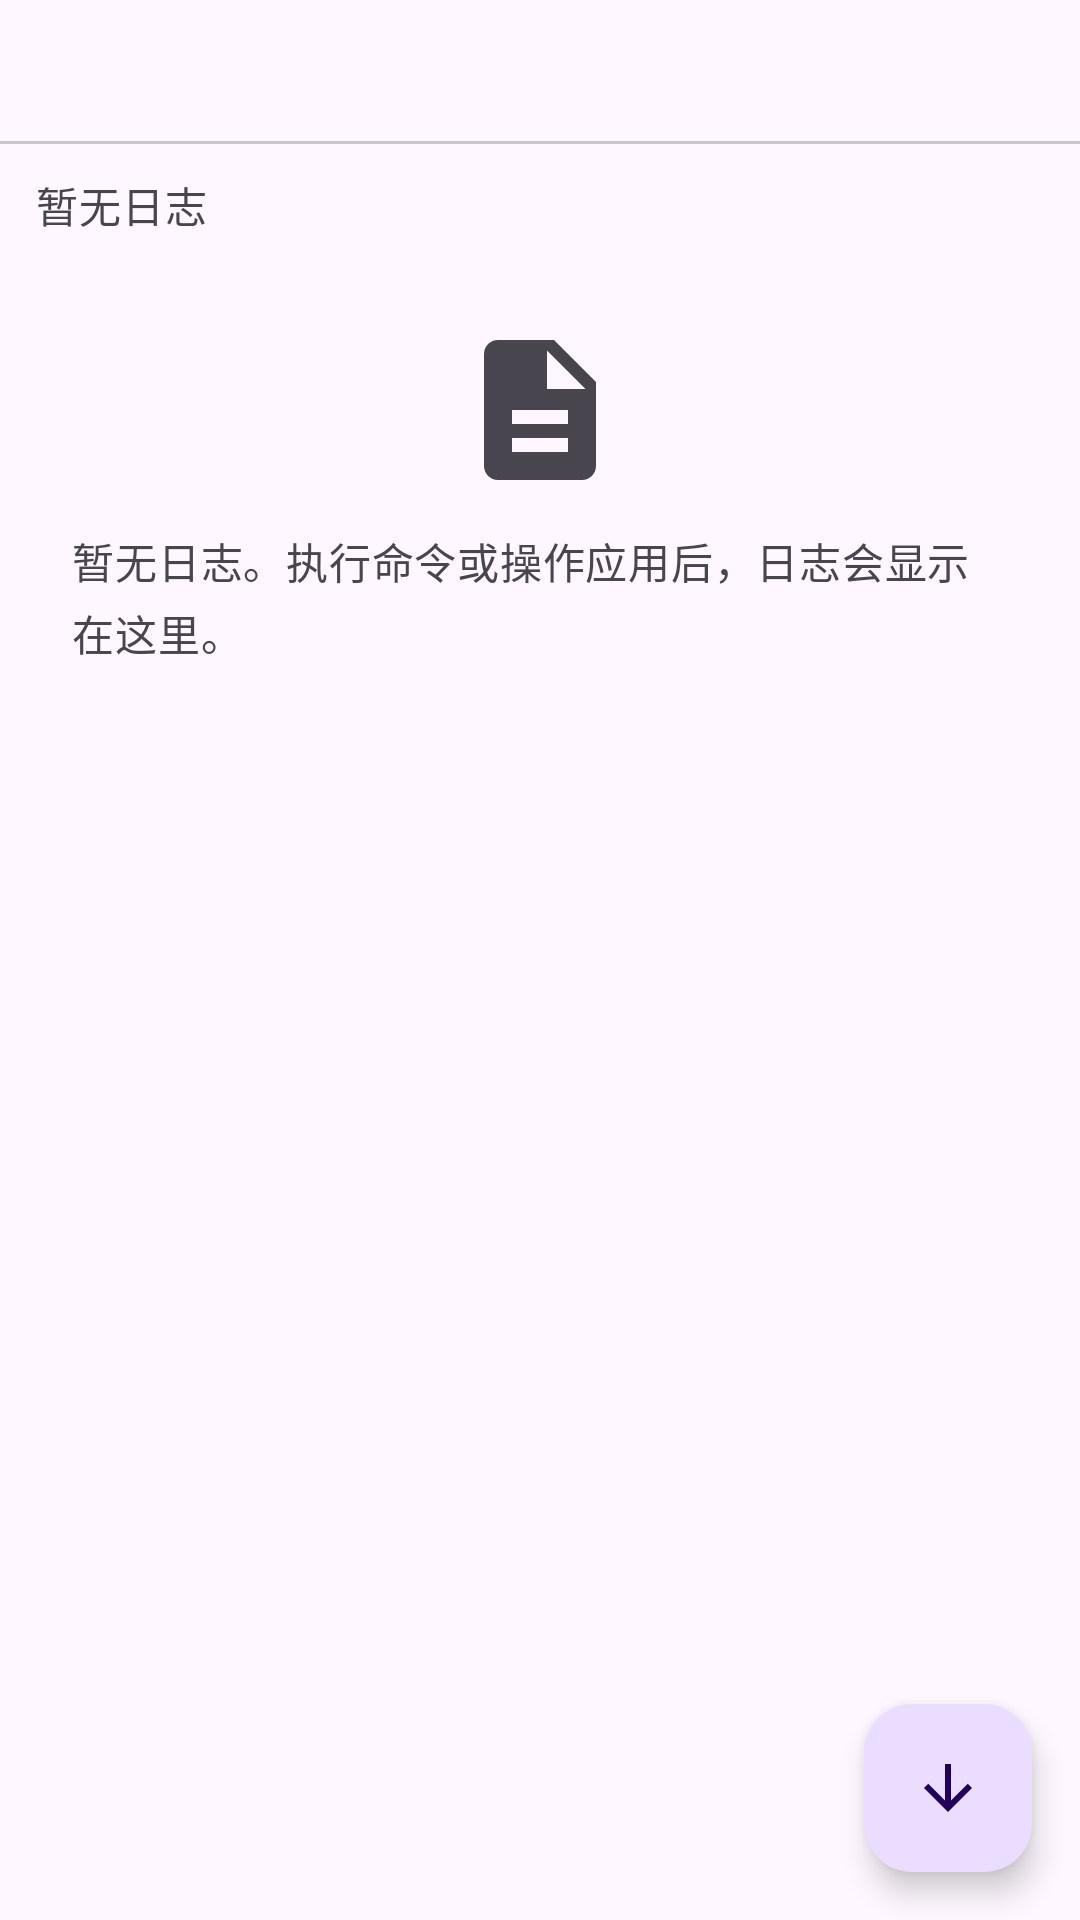

Where icons sit on this 1080x1920 app screen, as (left=x1, top=y1, right=x2, bottom=y2):
回到底部: (left=864, top=1704, right=1032, bottom=1872)
